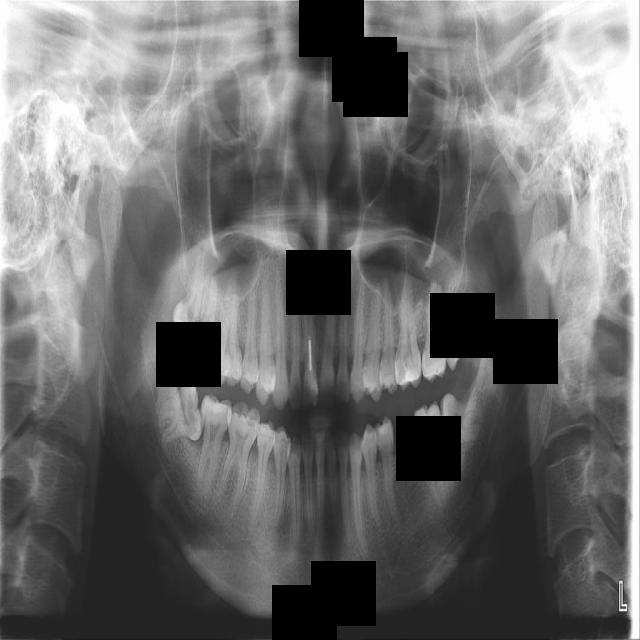3M ESPE Implant: (167, 245, 210, 354)
52: (304, 370, 318, 409)
73: (301, 287, 316, 375), (615, 587, 620, 595)
BioHorizons Implant: (422, 281, 447, 383)
BioLife Implant: (440, 274, 472, 372)
Biomet 3i Implant: (435, 392, 486, 458)
Blue Sky Bio Implant: (413, 401, 447, 513)
Caries: (190, 276, 219, 377)
Implant: (191, 393, 234, 497)
Keystone Dental Implant: (149, 376, 209, 450)
